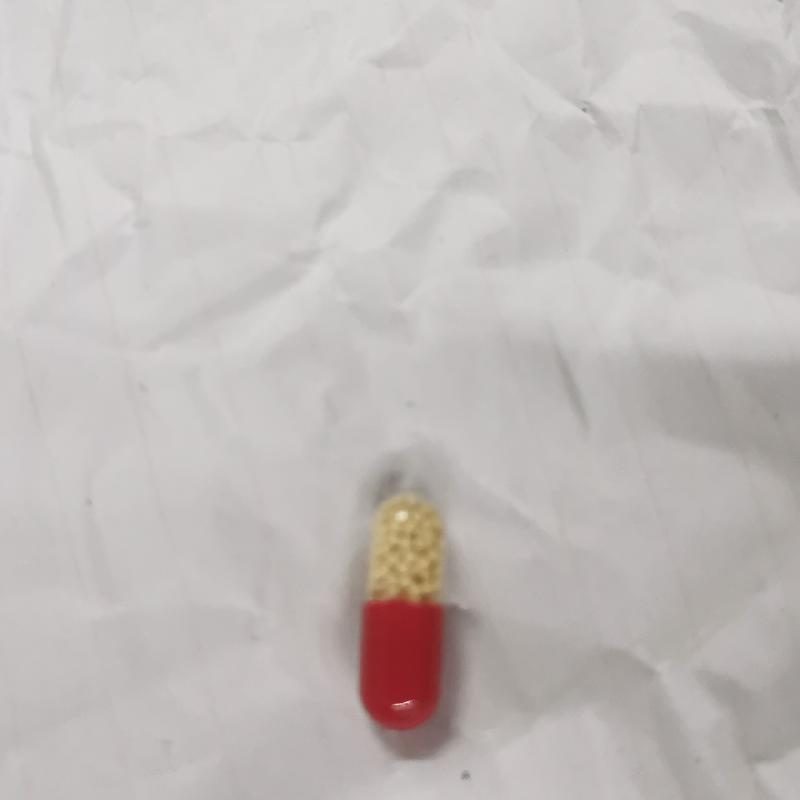pills: (345, 483, 458, 737)
